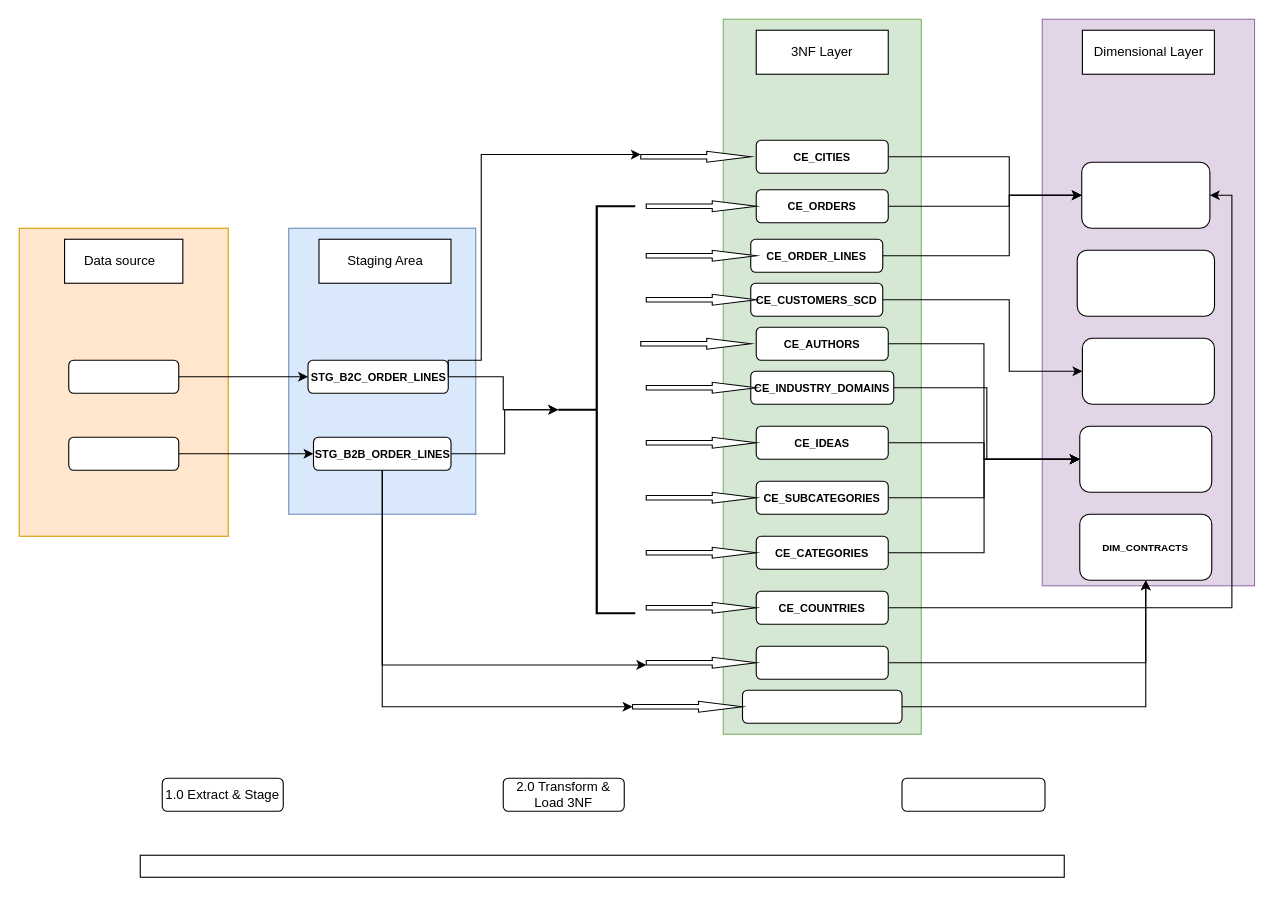
Some shapes in this 1274 by 897 pixel diagram are drawn without their labels. Here are the shapes that lost their labels. From the top down, the centre of each, then its label:
At point 1145,194: "FCT_ORDER_LINE_DD".
At point 1145,282: "DIM_TIME_DAY".
At point 123,376: "SRC_B2C".
At point 1147,370: "DIM_CUSTOMERS_SCD".
At point 123,453: "SRC_B2B".
At point 1145,458: "DIM_IDEAS".
At point 821,662: "CE_CONTRACTS".
At point 821,706: "CE_ACCOUNT_MANAGERS".
At point 973,794: "3.0 Load Dimensional (DIM + FCT)".
At point 601,865: "Metadata".
